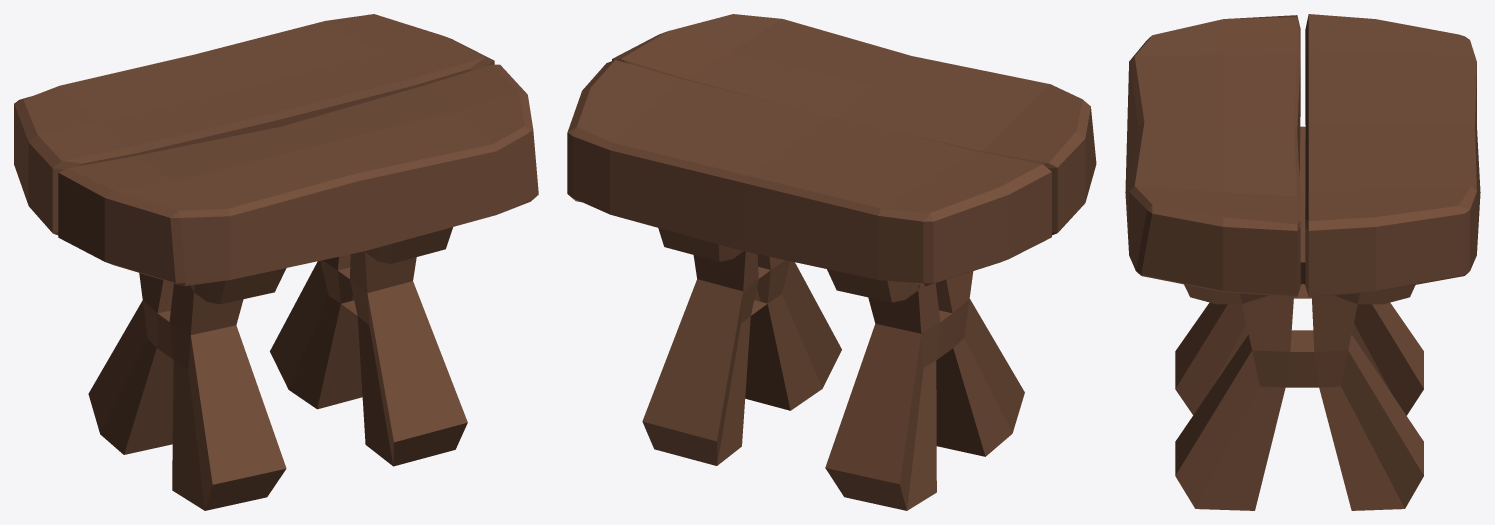
File: WoodenChair.fbx
3 renders of one model, left to right at view 1: azimuth 30°, elevation 25°; view 2: azimuth 150°, elevation 25°; view 3: azimuth 270°, elevation 25°, orthographic.
Visible parts, largest first — view 1: WoodenChair; view 2: WoodenChair; view 3: WoodenChair.
Boxes of the visible parts, x1,y1,x2,y2 form: WoodenChair: (14,14,538,510); WoodenChair: (567,14,1096,510); WoodenChair: (1125,14,1480,510).
Bounding box in the file's own units: 93 × 66.73 × 64.64.
Materials: 1 (1 with a texture image).
